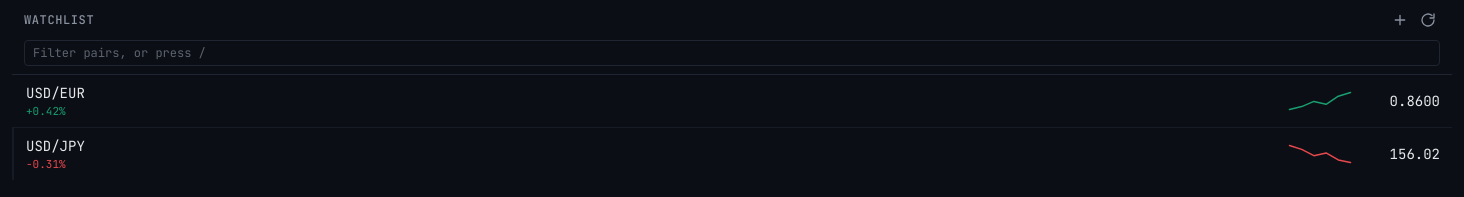
Test: Watchlist › filters by either code in the pair, ignoring case
Expected: the button "USD/EUR +0.42% 0.8600" is shown, top-left (14, 75), bottom-right (1452, 127)
Type "jpy" into the search field labelled "Filter pairs, or press /" at (732, 53), box top-left (24, 40), bottom-right (1440, 66)
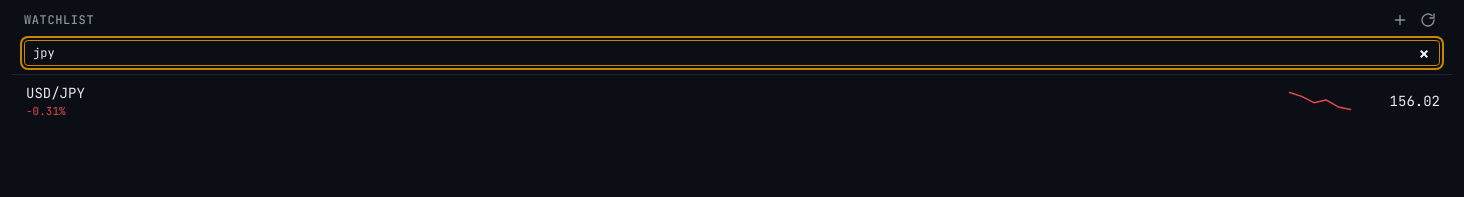
Expected: the button "USD/JPY -0.31% 156.02" is shown, top-left (14, 75), bottom-right (1452, 127)
Now the button "USD/EUR" is gone
